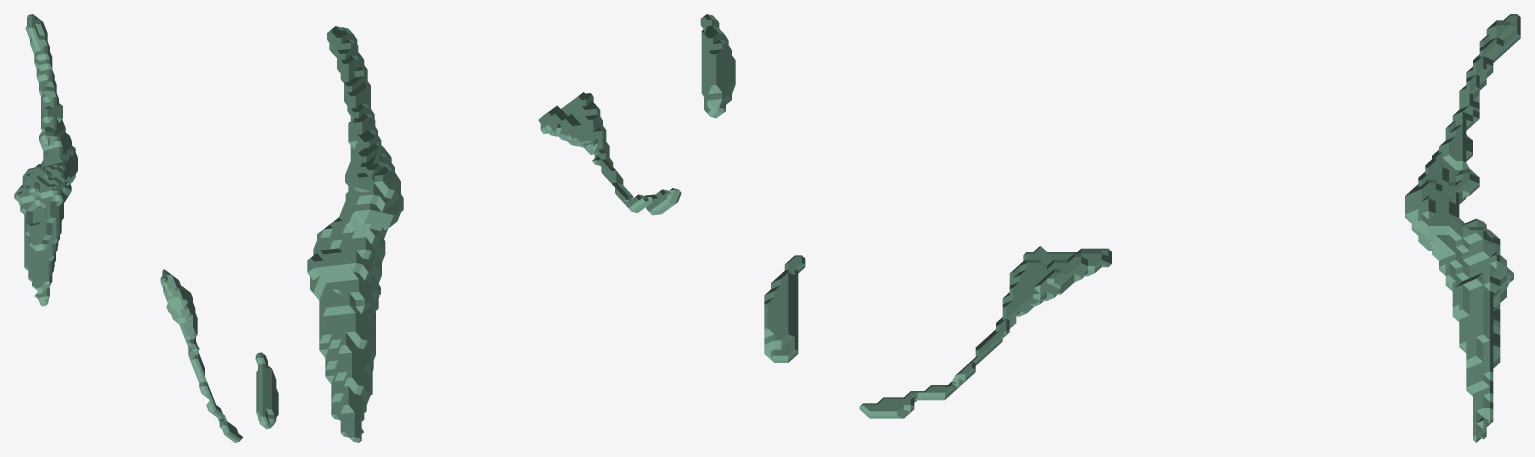
File: region_0037_DiV__diencephalic_ventricle_.glb
The picture shows the model from 3 angles, left to right: view 1: azimuth 30°, elevation 25°; view 2: azimuth 150°, elevation 25°; view 3: azimuth 270°, elevation 25°; orthographic projection. The views are drawn at different scales.
Visible parts, largest first — view 1: world; view 2: world; view 3: world.
Boxes of the visible parts, x1,y1,x2,y2 form: world: (14,14,278,442); world: (307,14,735,442); world: (764,14,1520,442).
Bounding box in the file's own units: 0.104 × 0.552 × 0.888.
